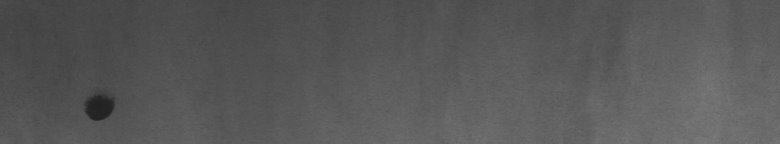fi: (79, 84, 120, 128)
